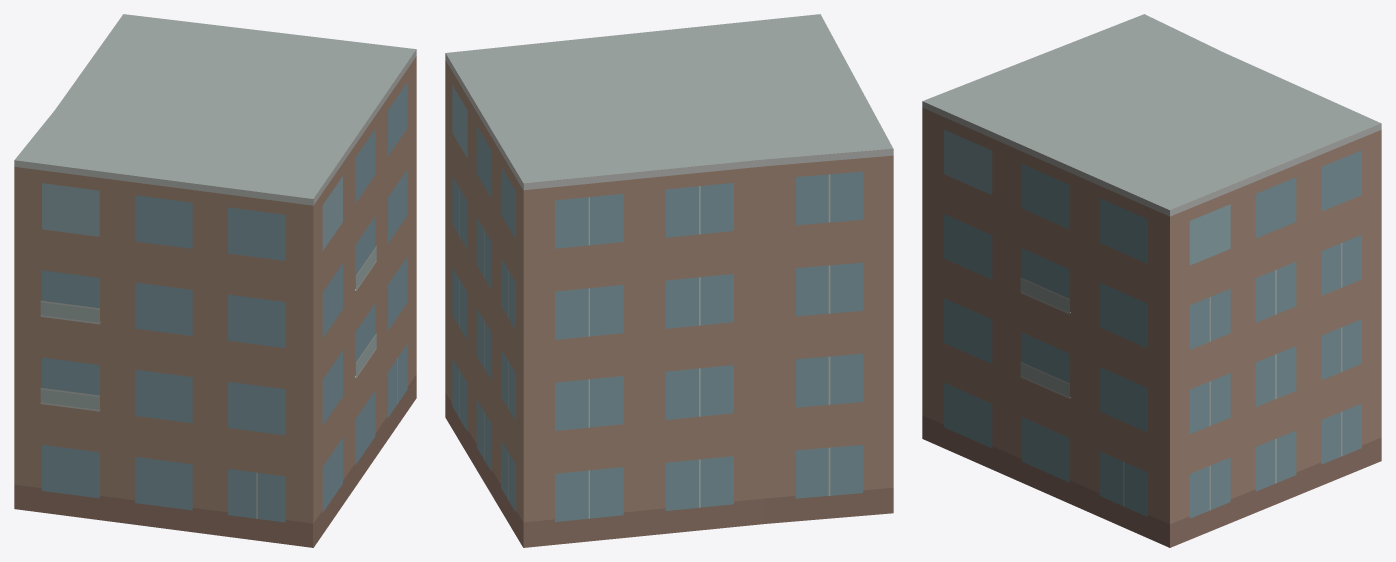
File: survey-upis-32508999.glb
3 views of the same model, side by side, from view 1: azimuth 30°, elevation 25°; view 2: azimuth 150°, elevation 25°; view 3: azimuth 270°, elevation 25° (orthographic). The views are drawn at different scales.
Visible parts, largest first — view 1: survey-upis-32508999.tmp; view 2: survey-upis-32508999.tmp; view 3: survey-upis-32508999.tmp.
Boxes of the visible parts, box(x1,y1,x2,y2) form: survey-upis-32508999.tmp: box(14, 14, 416, 547); survey-upis-32508999.tmp: box(445, 14, 893, 547); survey-upis-32508999.tmp: box(922, 14, 1381, 547).
Size of the model in its own units: 16.22 by 13 by 16.04.
